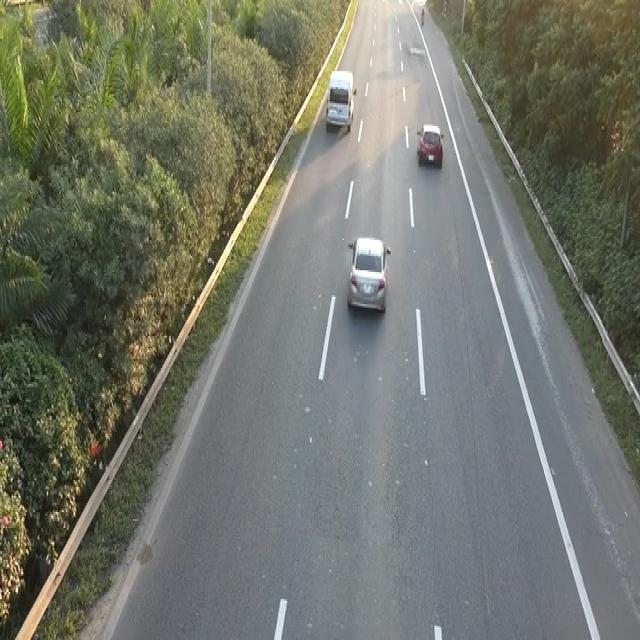bus: (344, 231, 393, 320), (415, 119, 444, 169)
jeep: (324, 66, 356, 133)
